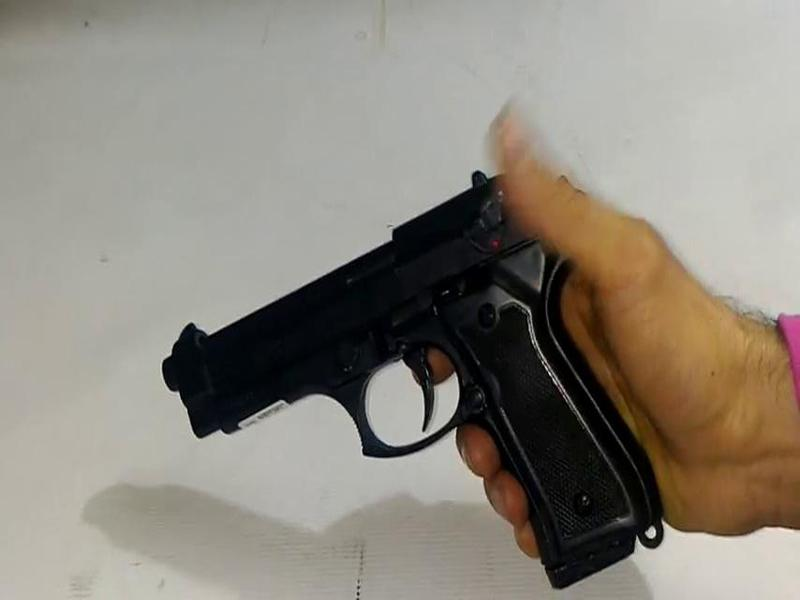Pistola: (148, 148, 687, 583)
